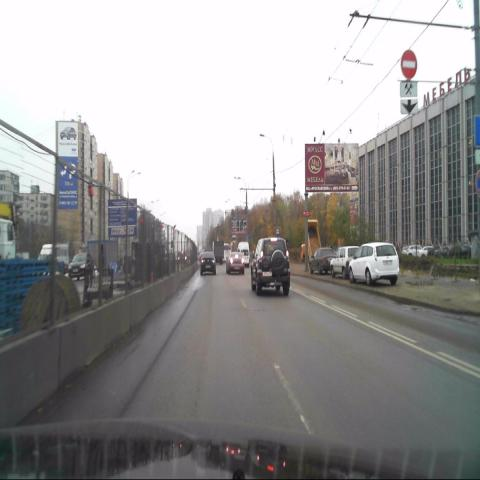3_1: (401, 49, 418, 79)
